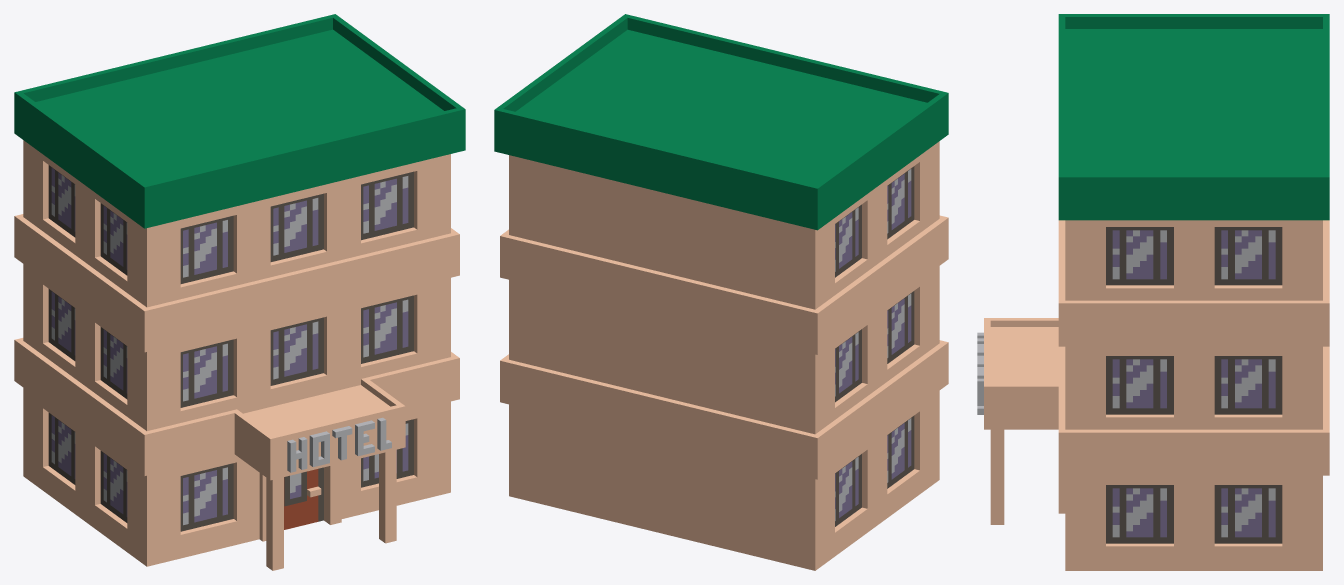
File: hotel_b.obj
3 views of the same model, side by side, from view 1: azimuth 30°, elevation 25°; view 2: azimuth 150°, elevation 25°; view 3: azimuth 270°, elevation 25° (orthographic). The views are drawn at different scales.
Size of the model in its own units: 5.7 by 6.5 by 5.2.
1 material, 1 textured.
